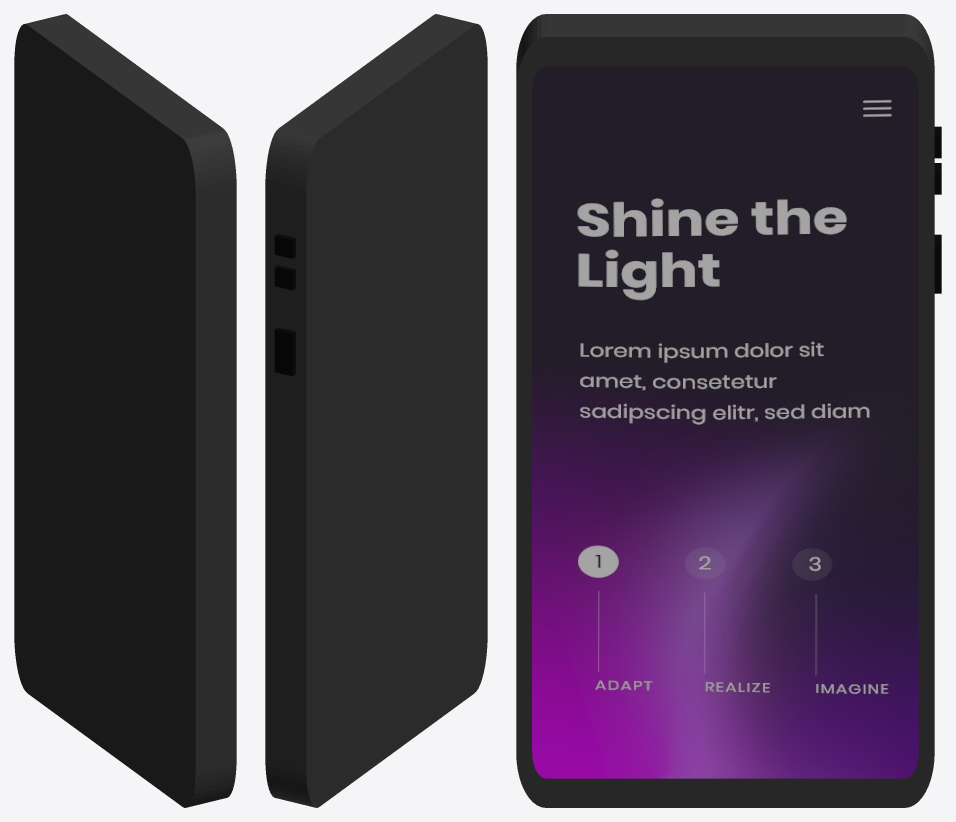
File: phone_design.gltf
The picture shows the model from 3 angles, left to right: view 1: azimuth 30°, elevation 25°; view 2: azimuth 150°, elevation 25°; view 3: azimuth 270°, elevation 25°; orthographic projection. The views are drawn at different scales.
Visible parts, largest first — view 1: buttons; view 2: buttons; view 3: buttons.
Part boxes in pixels (<box>): buttons: <box>14,14,236,807</box>; buttons: <box>265,14,487,807</box>; buttons: <box>516,14,941,807</box>.
Size of the model in its own units: 0.2602 by 4.07 by 2.03.
Materials: 3 (1 with a texture image).
